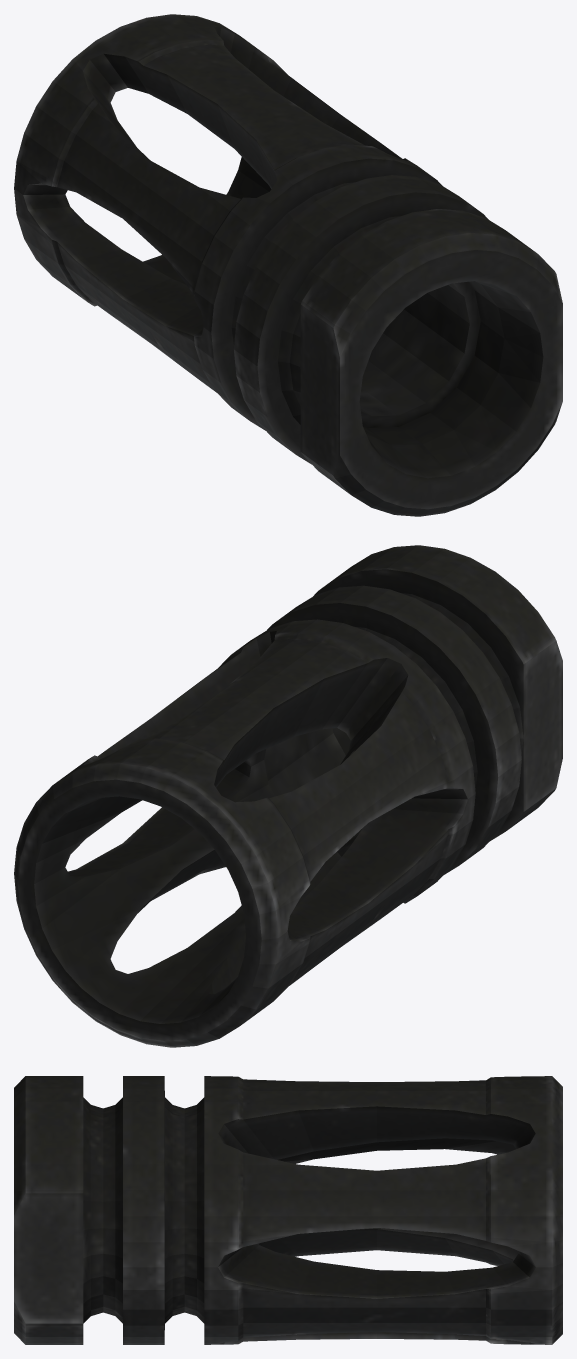
3 views of the same model, one above another, from view 1: azimuth 30°, elevation 25°; view 2: azimuth 150°, elevation 25°; view 3: azimuth 270°, elevation 25° (orthographic). The views are drawn at different scales.
Visible parts, largest first — view 1: TW_58949dea86f77409483e16a8_PZ_Import; view 2: TW_58949dea86f77409483e16a8_PZ_Import; view 3: TW_58949dea86f77409483e16a8_PZ_Import.
Part boxes in pixels (left/top/right/bottom): TW_58949dea86f77409483e16a8_PZ_Import: left=14, top=14, right=562, bottom=516; TW_58949dea86f77409483e16a8_PZ_Import: left=14, top=545, right=562, bottom=1047; TW_58949dea86f77409483e16a8_PZ_Import: left=14, top=1076, right=562, bottom=1344.
Size of the model in its own units: 0.0122 by 0.025 by 0.0122.
1 material, 1 textured.
